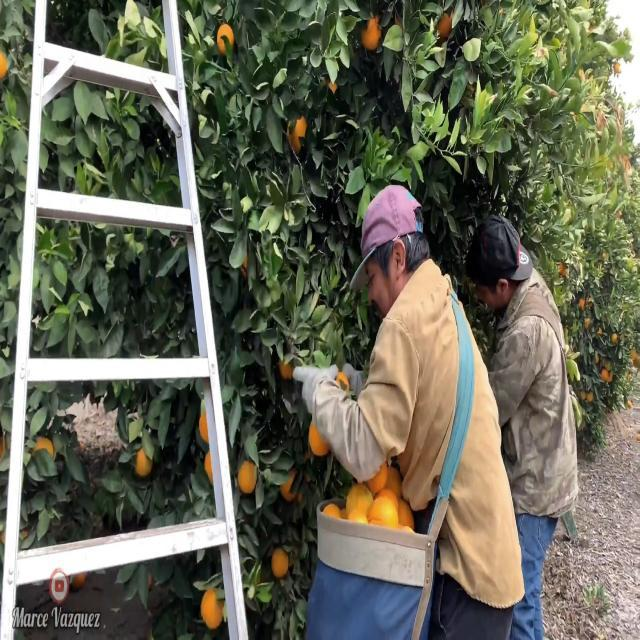Jeruk Sudah Matang: (198, 582, 226, 630), (235, 452, 260, 498), (306, 418, 332, 461), (358, 15, 384, 54), (216, 19, 236, 56)
